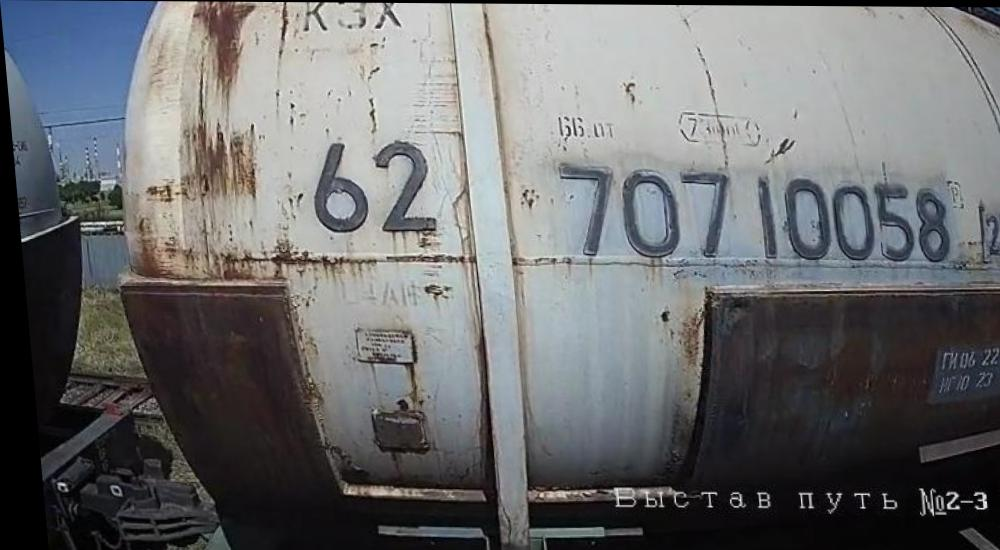Wagon-number: (549, 159, 952, 269)
